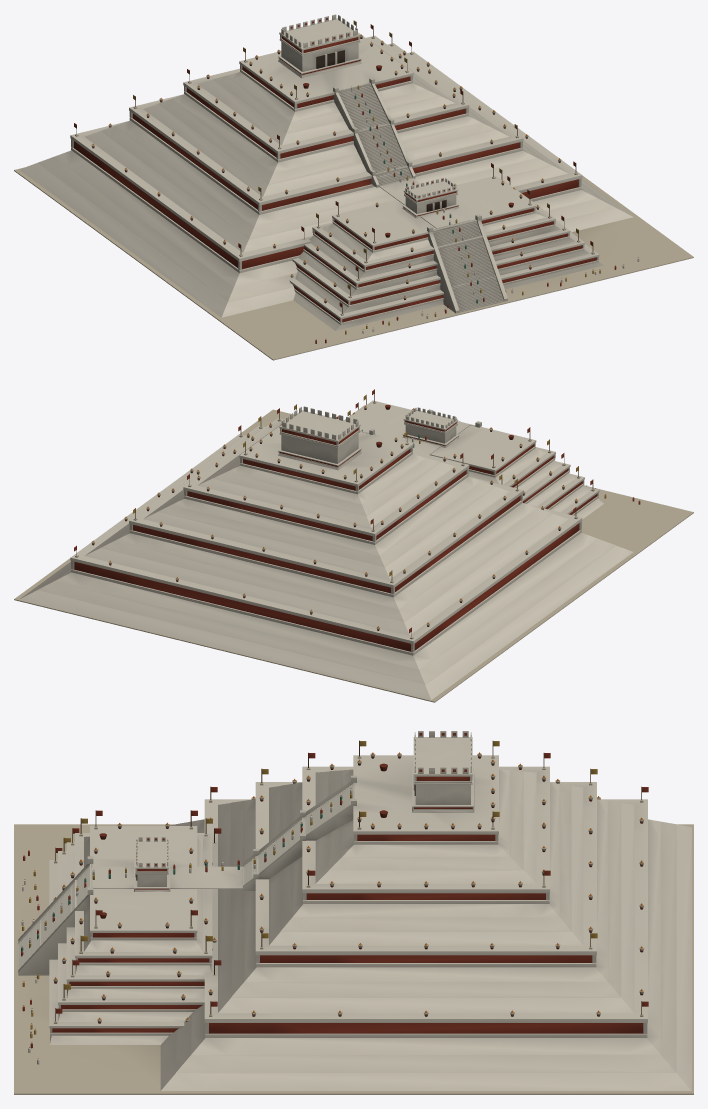
Rendered from pyramid-of-the-moon.glb.
3 renders of one model, top to bottom at view 1: azimuth 30°, elevation 25°; view 2: azimuth 150°, elevation 25°; view 3: azimuth 270°, elevation 25°, orthographic. The views are drawn at different scales.
Parts seen in each view (by area): view 1: p1_pyramid, p2_temple, p0_ground; view 2: p1_pyramid, p2_temple, p0_ground; view 3: p1_pyramid, p2_temple, p0_ground.
Part boxes in pixels (left/top/right/bottom): p1_pyramid: left=19, top=32, right=633, bottom=330; p2_temple: left=74, top=14, right=639, bottom=343; p0_ground: left=14, top=167, right=693, bottom=360; p1_pyramid: left=19, top=400, right=633, bottom=700; p2_temple: left=74, top=389, right=640, bottom=639; p0_ground: left=14, top=409, right=693, bottom=702; p1_pyramid: left=49, top=755, right=691, bottom=1090; p2_temple: left=17, top=731, right=648, bottom=1064; p0_ground: left=14, top=824, right=693, bottom=1094.
Bounding box in the file's own units: 150 × 54.72 × 160.
